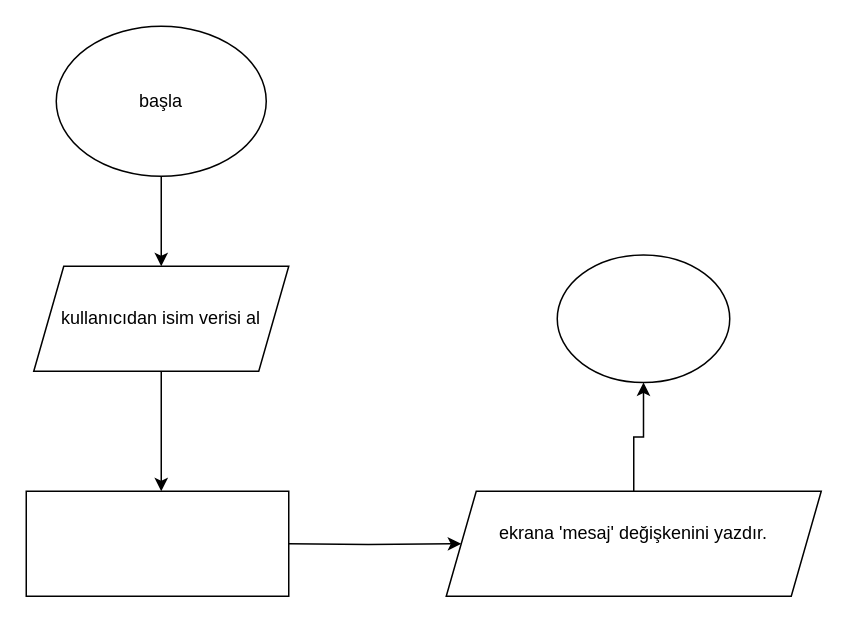
This 848x623 diagram has some shape labels left out. Here are the shapes that lost their labels. From the top down, the centre of each, then its label:
(x=643, y=318): dur
(x=157, y=543): mesaj='Hoş Geldiniz Sayın'+isim
